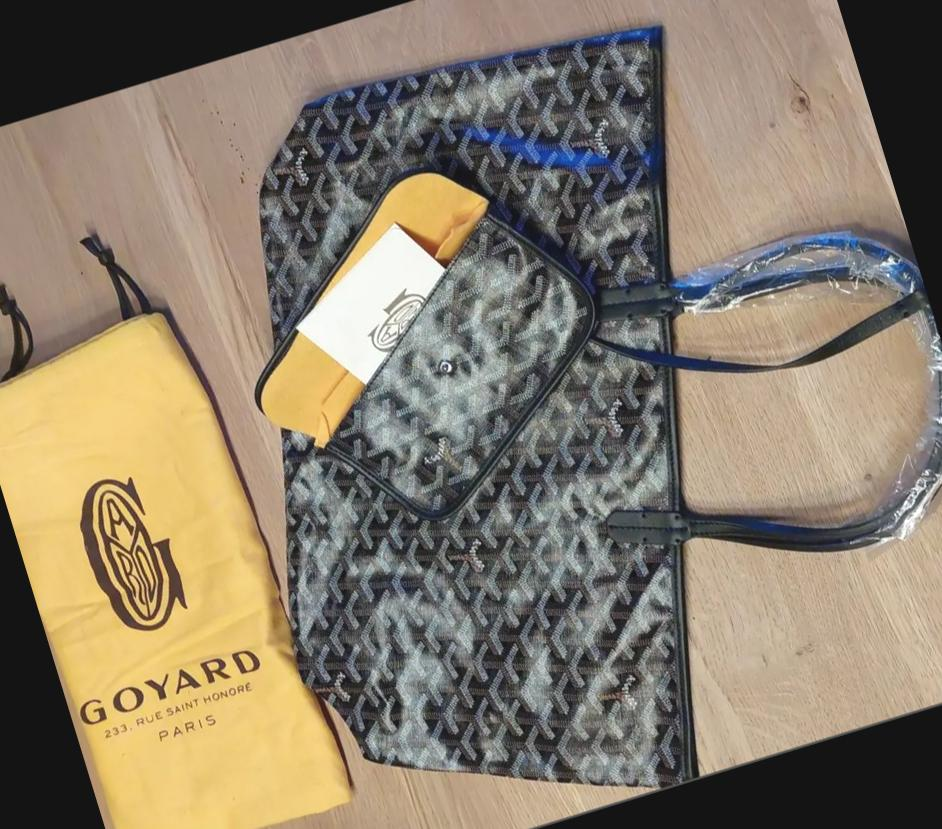GOYARD: (137, 0, 871, 829), (278, 194, 636, 538)
